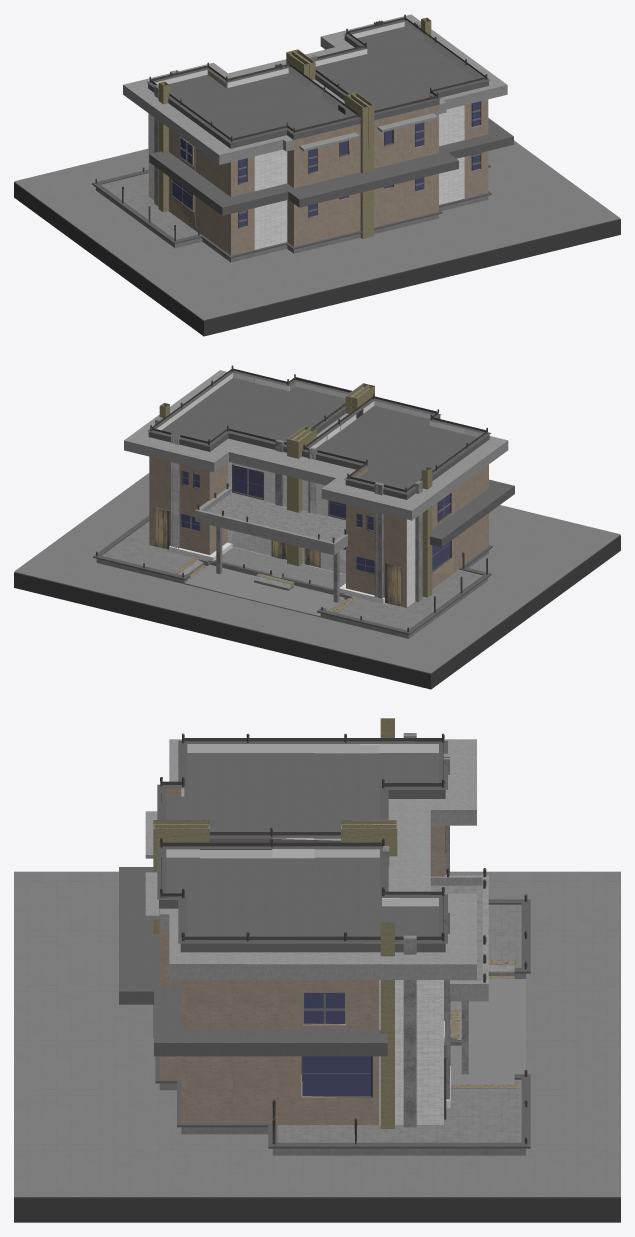
The picture shows the model from 3 angles, top to bottom: view 1: azimuth 30°, elevation 25°; view 2: azimuth 150°, elevation 25°; view 3: azimuth 270°, elevation 25°; orthographic projection. The views are drawn at different scales.
Bounding box in the file's own units: 33.26 × 11.29 × 26.22.
26 materials, 14 textured.
